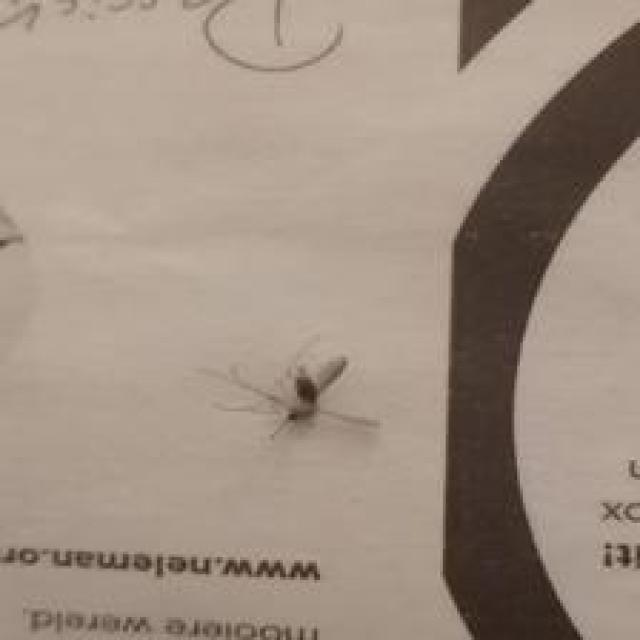Culex: (210, 333, 381, 441)
